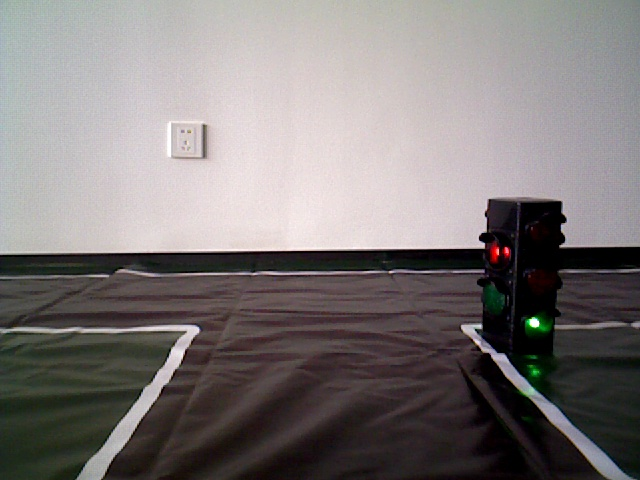green: (486, 200, 553, 350)
